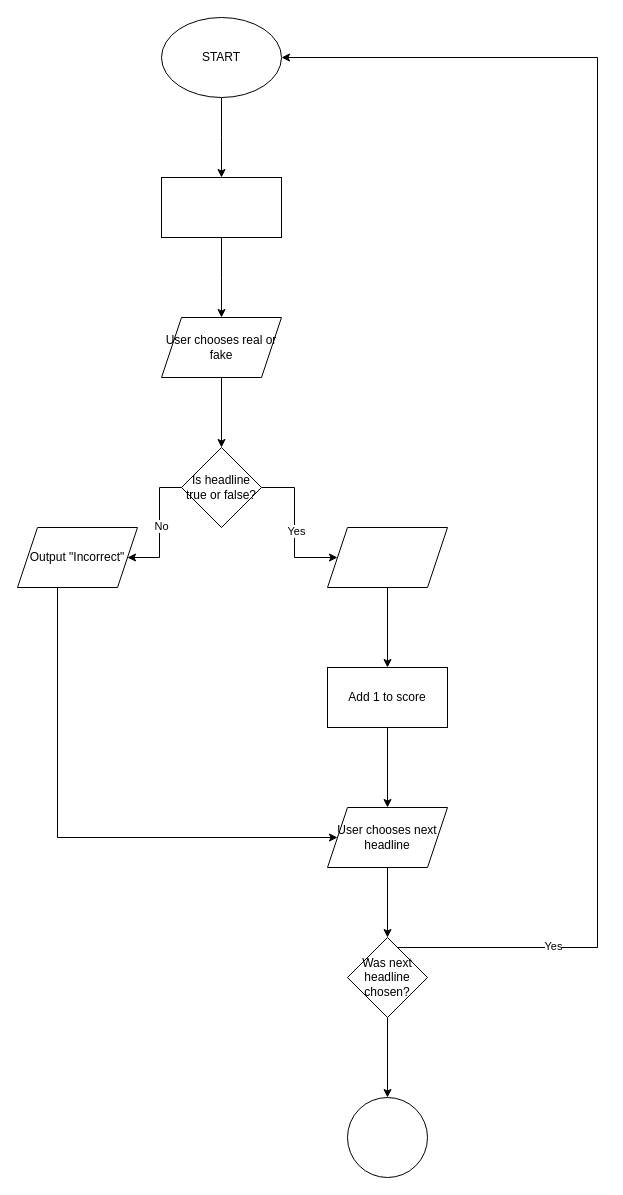
The diagram is 623 pixels wide and 1195 high, and some of its shapes have lost their labels. Each missing label, with the centre of its shape:
Display headline: pixel 221 207
END: pixel 387 1137
Output "Correct": pixel 387 557
